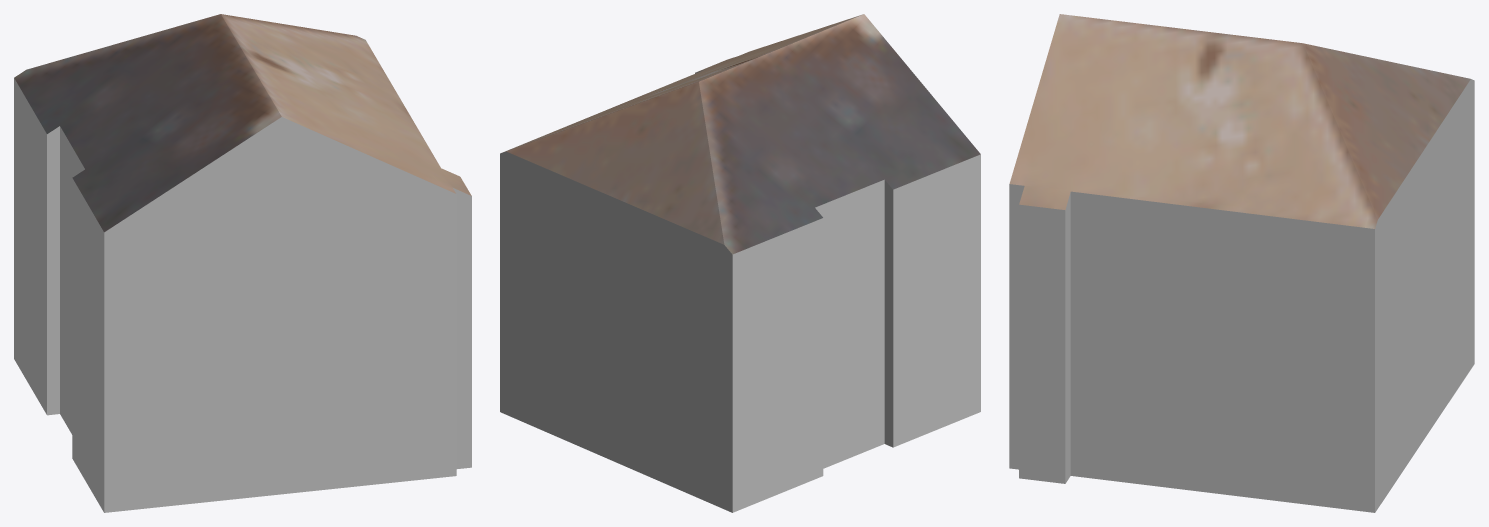
File: DEBW_0010007Txbj.gltf
The picture shows the model from 3 angles, left to right: view 1: azimuth 30°, elevation 25°; view 2: azimuth 150°, elevation 25°; view 3: azimuth 270°, elevation 25°; orthographic projection. The views are drawn at different scales.
Parts seen in each view (by area): view 1: Z_UP; view 2: Z_UP; view 3: Z_UP.
Boxes of the visible parts, x1,y1,x2,y2 form: Z_UP: (14, 14, 471, 512); Z_UP: (500, 14, 980, 512); Z_UP: (1009, 14, 1474, 512).
Bounding box in the file's own units: 13.8 × 12.69 × 14.04.
2 materials, 1 textured.
